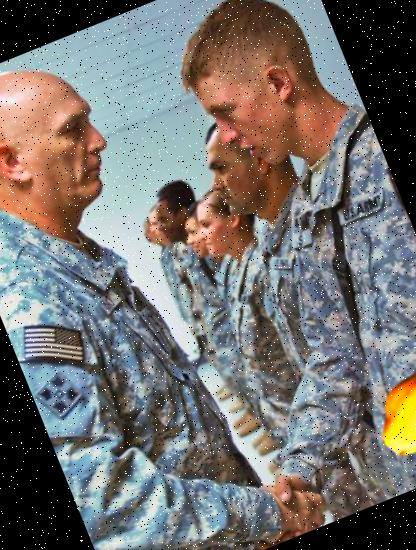Quince: (359, 349, 416, 475)
